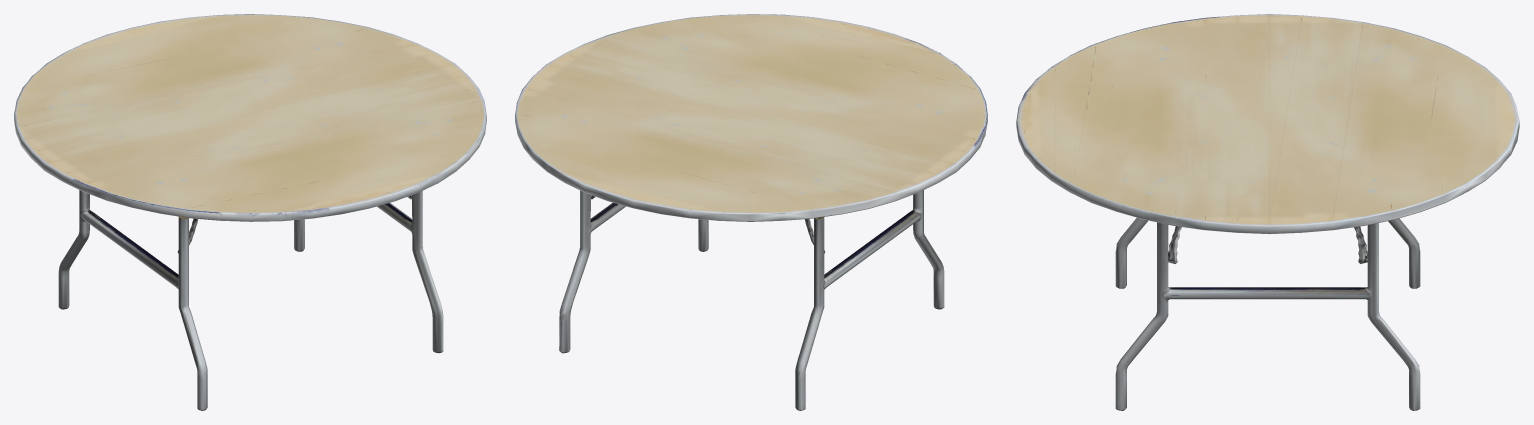
File: Birchwood_Folding_Ban_0403211029_texture.glb
3 views of the same model, side by side, from view 1: azimuth 30°, elevation 25°; view 2: azimuth 150°, elevation 25°; view 3: azimuth 270°, elevation 25° (orthographic). The views are drawn at different scales.
Visible parts, largest first — view 1: Mesh_0.001; view 2: Mesh_0.001; view 3: Mesh_0.001.
Boxes of the visible parts, x1,y1,x2,y2 form: Mesh_0.001: [14, 14, 486, 410]; Mesh_0.001: [515, 14, 987, 410]; Mesh_0.001: [1016, 14, 1519, 410].
Size of the model in its own units: 1.52 by 0.762 by 1.52.
1 material, 1 textured.
